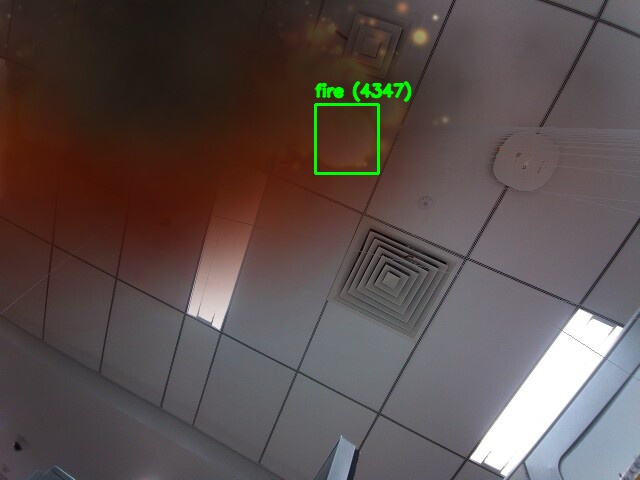fire: (315, 104, 378, 173)
